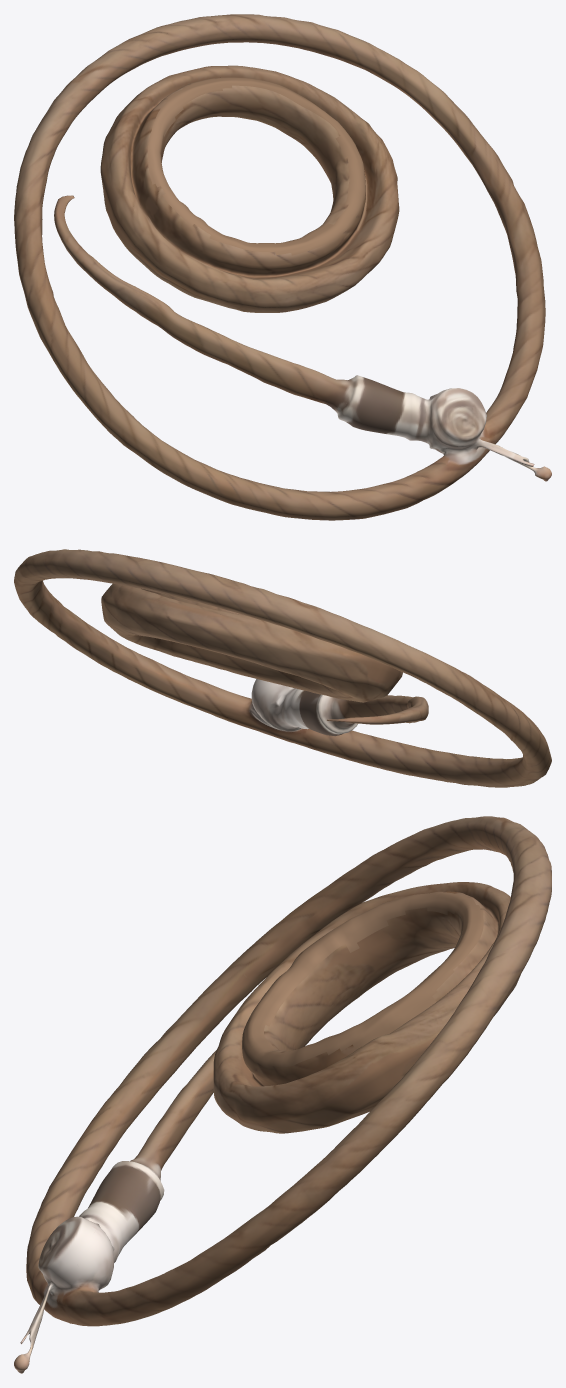
Rendered from whip.glb.
The picture shows the model from 3 angles, top to bottom: view 1: azimuth 30°, elevation 25°; view 2: azimuth 150°, elevation 25°; view 3: azimuth 270°, elevation 25°; orthographic projection. The views are drawn at different scales.
Parts seen in each view (by area): view 1: model; view 2: model; view 3: model.
Part boxes in pixels (<box>): model: <box>14,14,551,520</box>; model: <box>14,549,551,787</box>; model: <box>14,816,551,1373</box>.
Bounding box in the file's own units: 1.9 × 1.27 × 1.49.
Materials: 1 (1 with a texture image).
